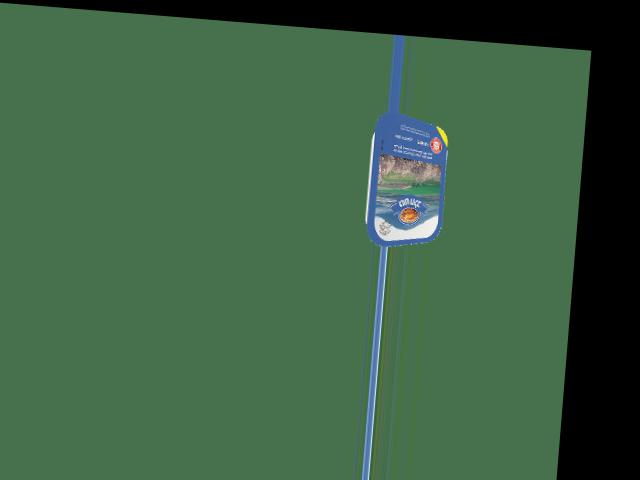cheese: (354, 124, 453, 241)
